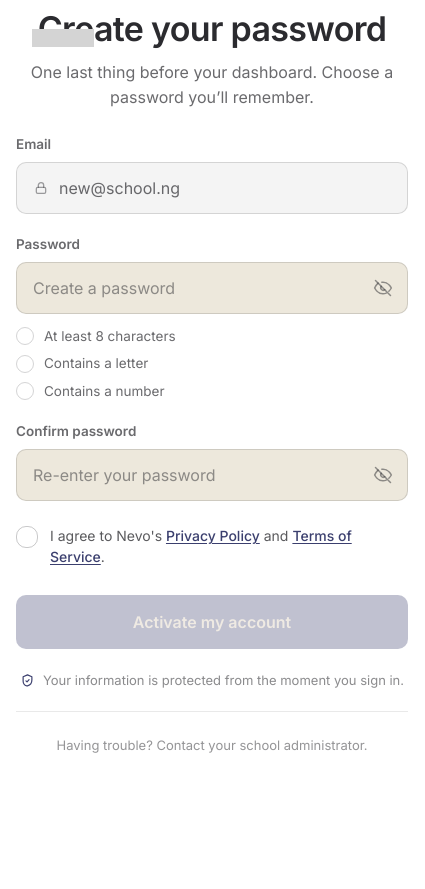
Test: activating on a device someone else is signed into › ends nothing when the activation itself failed
The width and height of the screenshot is (425, 889).
Type "lessons42" into the password field labelled "Password" at [199, 288], box [33,263,365,313]
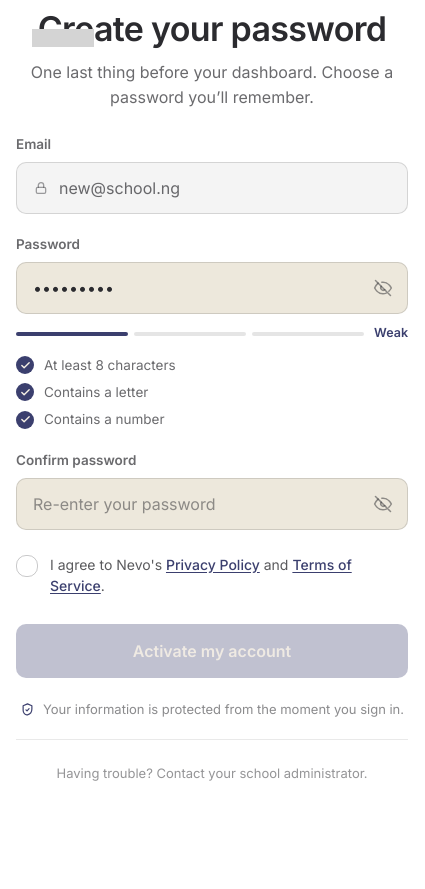
Type "lessons42" into the password field labelled "Confirm password" at [199, 504], box [33,479,365,529]
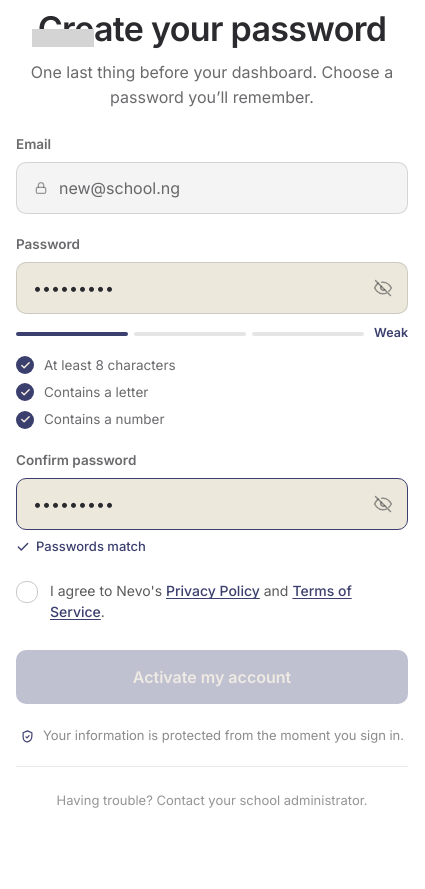
Click the checkbox at [212, 601], box [16,580,408,622]
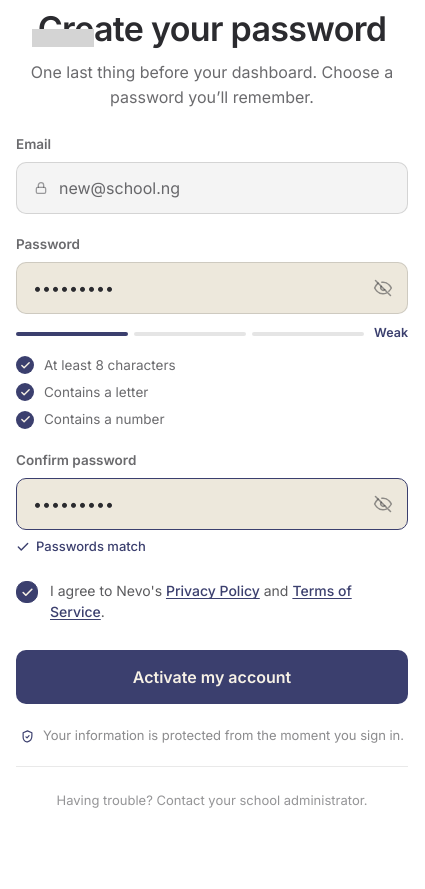
Click the button "Activate my account" at [212, 677], box [16,650,408,704]
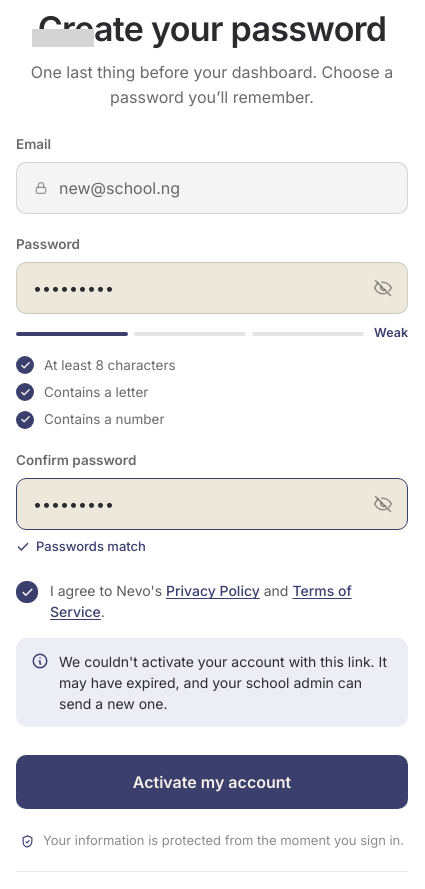
Now the text "couldn't activate your account" is shown, box [59,653,387,712]
